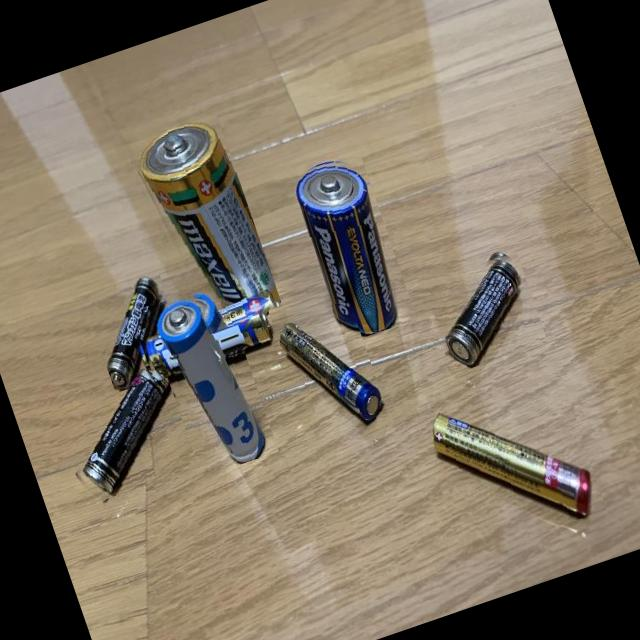Hazard: (125, 112, 284, 340), (417, 369, 607, 558), (143, 280, 278, 478), (282, 148, 417, 344), (43, 356, 204, 509), (269, 298, 391, 448), (418, 243, 547, 374), (82, 270, 192, 394), (136, 288, 278, 382)
